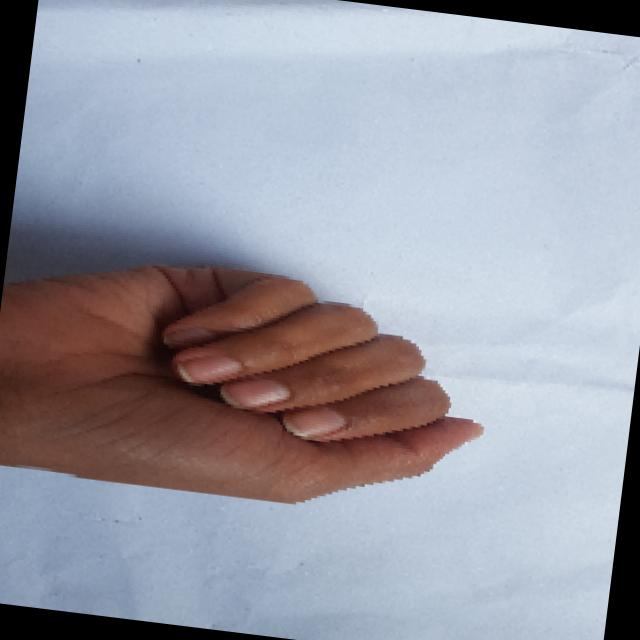Nail: (219, 378, 288, 407), (282, 406, 344, 438), (175, 354, 240, 383), (162, 327, 214, 349)
